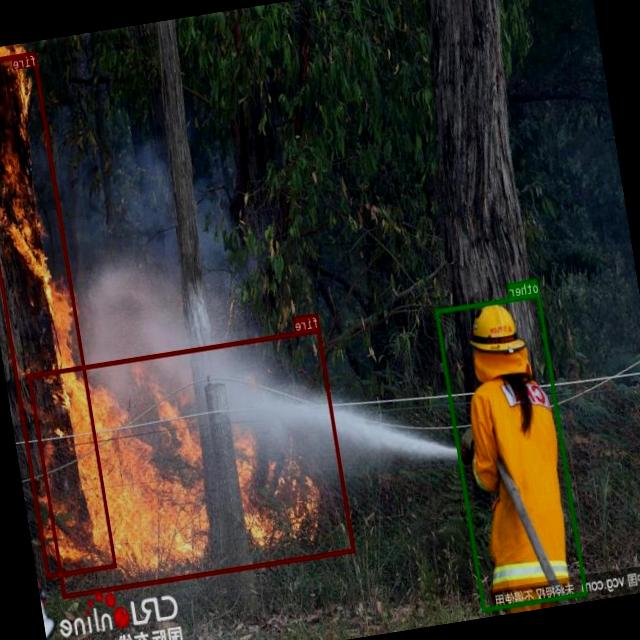fire: (29, 328, 356, 597), (0, 51, 117, 578)
